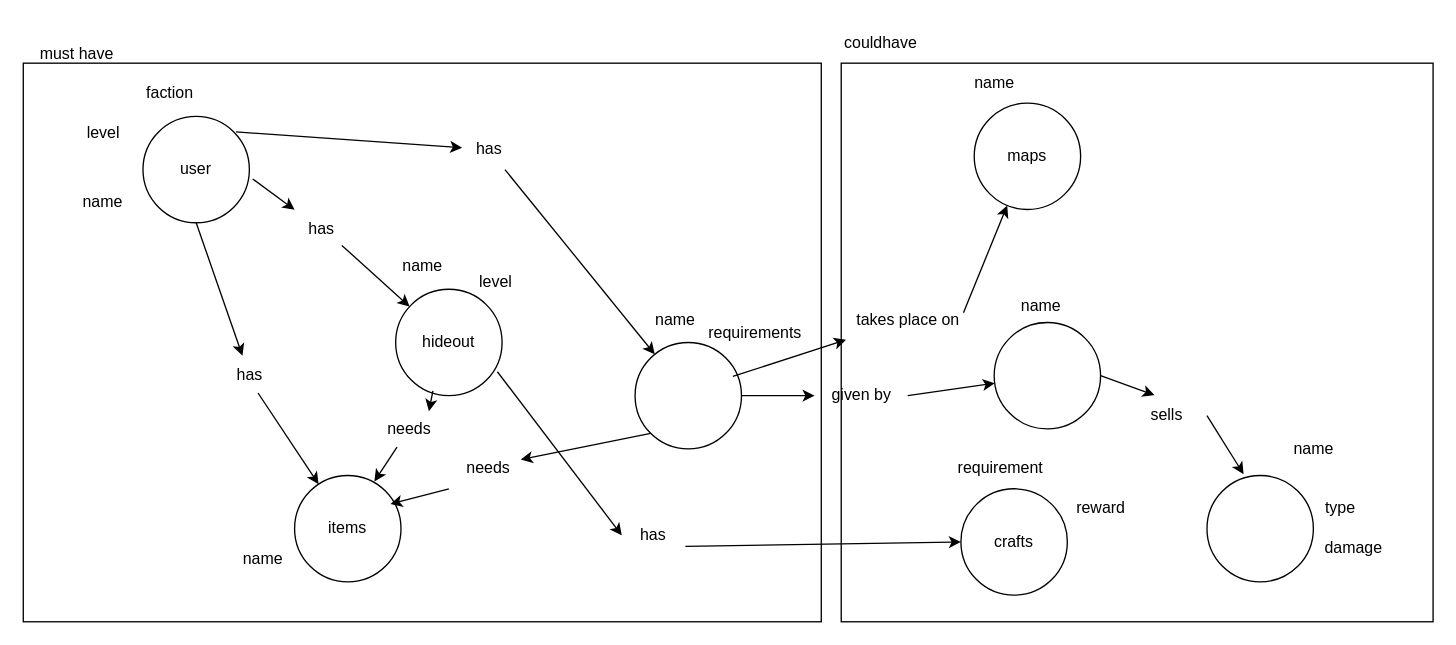
This 1456x645 diagram has some shape labels left out. The shapes that lost their labels are listed below. From the top down, each one's centre as x and y in pixels, then its label:
the point at 687,395: tasks
the point at 1047,375: traders
the point at 1259,528: ammo
